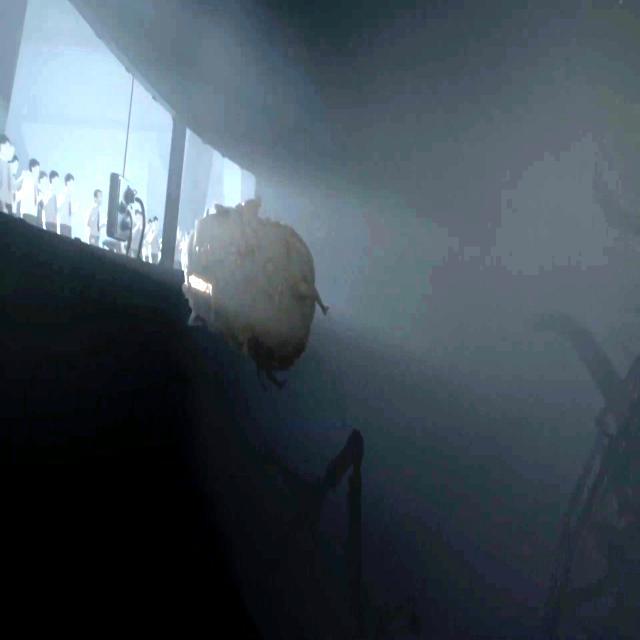blob: (184, 199, 328, 363)
human: (58, 173, 81, 236), (85, 188, 108, 245), (21, 158, 41, 223), (43, 172, 61, 231), (0, 137, 11, 213), (36, 173, 48, 225), (149, 216, 160, 262), (142, 218, 154, 260), (10, 154, 20, 191), (11, 187, 20, 217), (178, 226, 182, 265)
interactible: (108, 170, 146, 264)
